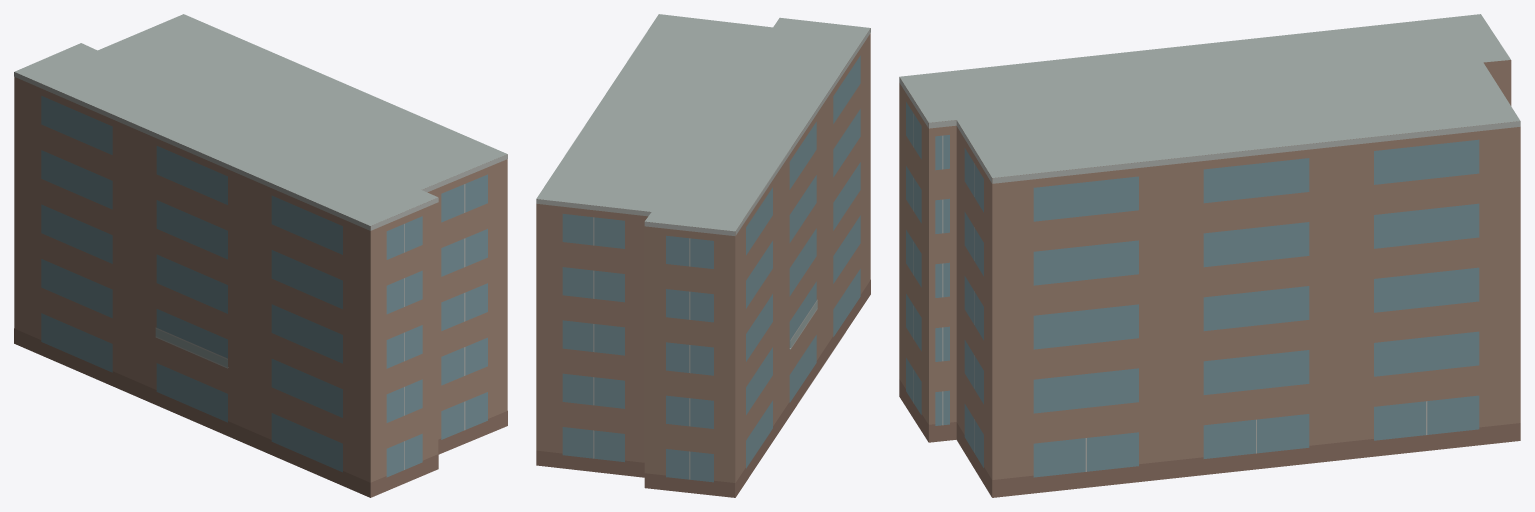
The model's file is survey-upis-32653637.glb.
3 views of the same model, side by side, from view 1: azimuth 30°, elevation 25°; view 2: azimuth 150°, elevation 25°; view 3: azimuth 270°, elevation 25° (orthographic). The views are drawn at different scales.
Parts seen in each view (by area): view 1: survey-upis-32653637.tmp; view 2: survey-upis-32653637.tmp; view 3: survey-upis-32653637.tmp.
Part boxes in pixels (x1=…): survey-upis-32653637.tmp: x1=14, y1=14, x2=507, y2=497; survey-upis-32653637.tmp: x1=536, y1=14, x2=870, y2=497; survey-upis-32653637.tmp: x1=899, y1=14, x2=1520, y2=497.
Size of the model in its own units: 14.92 by 13.55 by 23.87.
